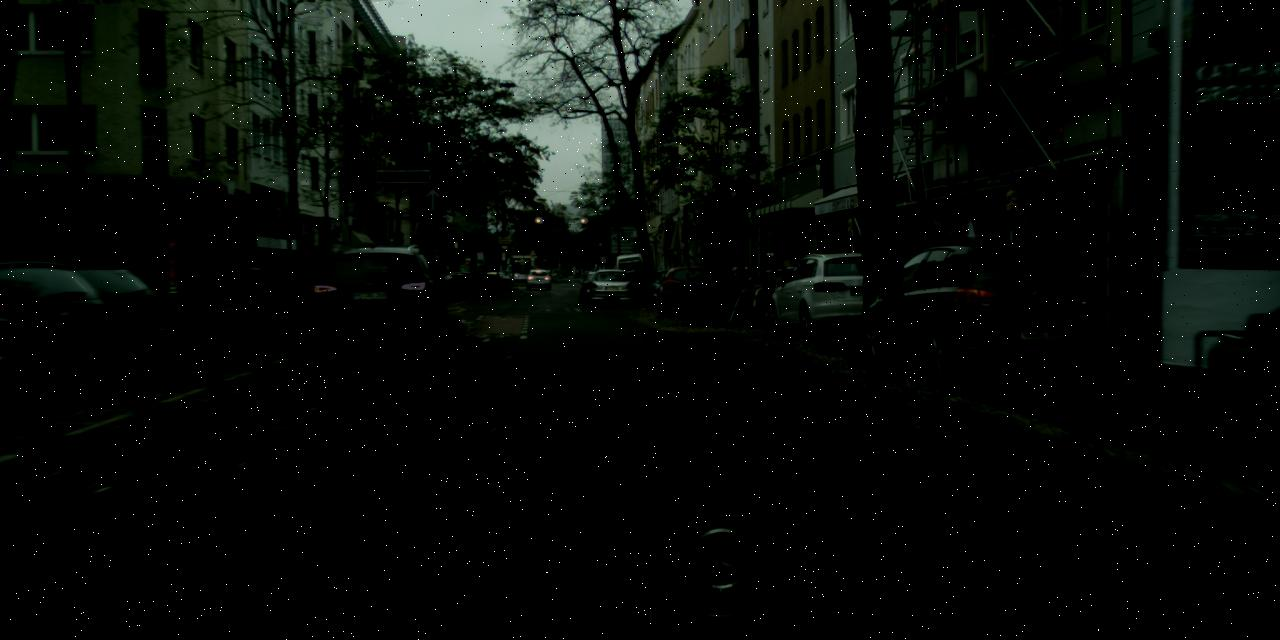ped: (1002, 227, 1038, 317), (474, 264, 487, 295)
